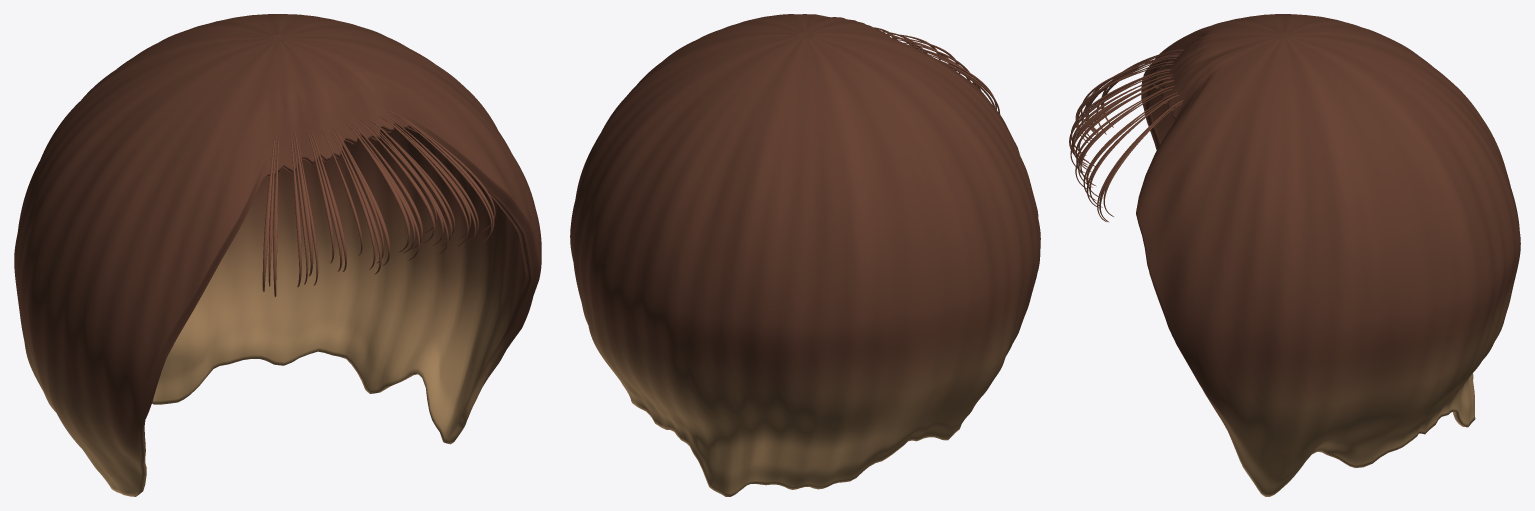
Rendered from side-sweep-pashmina-ombre.glb.
The picture shows the model from 3 angles, left to right: view 1: azimuth 30°, elevation 25°; view 2: azimuth 150°, elevation 25°; view 3: azimuth 270°, elevation 25°; orthographic projection. The views are drawn at different scales.
Parts seen in each view (by area): view 1: Hair / layered lob, Fringe / fine strands; view 2: Hair / layered lob, Fringe / fine strands; view 3: Hair / layered lob, Fringe / fine strands.
Boxes of the visible parts, left/top/right/bottom form: Hair / layered lob: left=14, top=14, right=541, bottom=496; Fringe / fine strands: left=262, top=111, right=495, bottom=296; Hair / layered lob: left=570, top=14, right=1040, bottom=496; Fringe / fine strands: left=873, top=27, right=1000, bottom=114; Hair / layered lob: left=1136, top=14, right=1520, bottom=496; Fringe / fine strands: left=1069, top=49, right=1184, bottom=222.
Size of the model in its own units: 0.8384 by 0.7657 by 0.8014.
